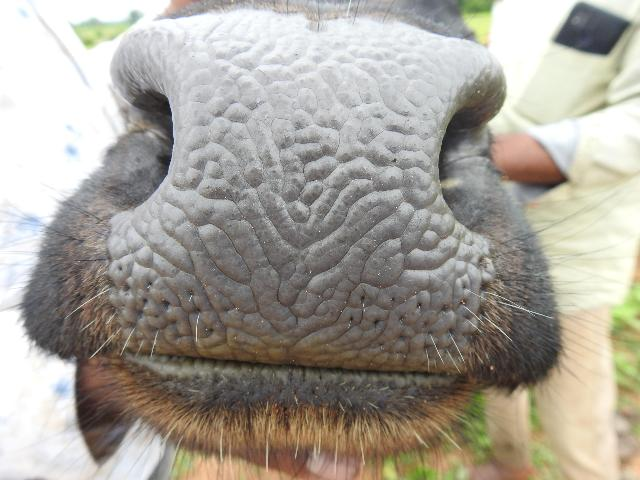Muzzle: (160, 21, 444, 364)
